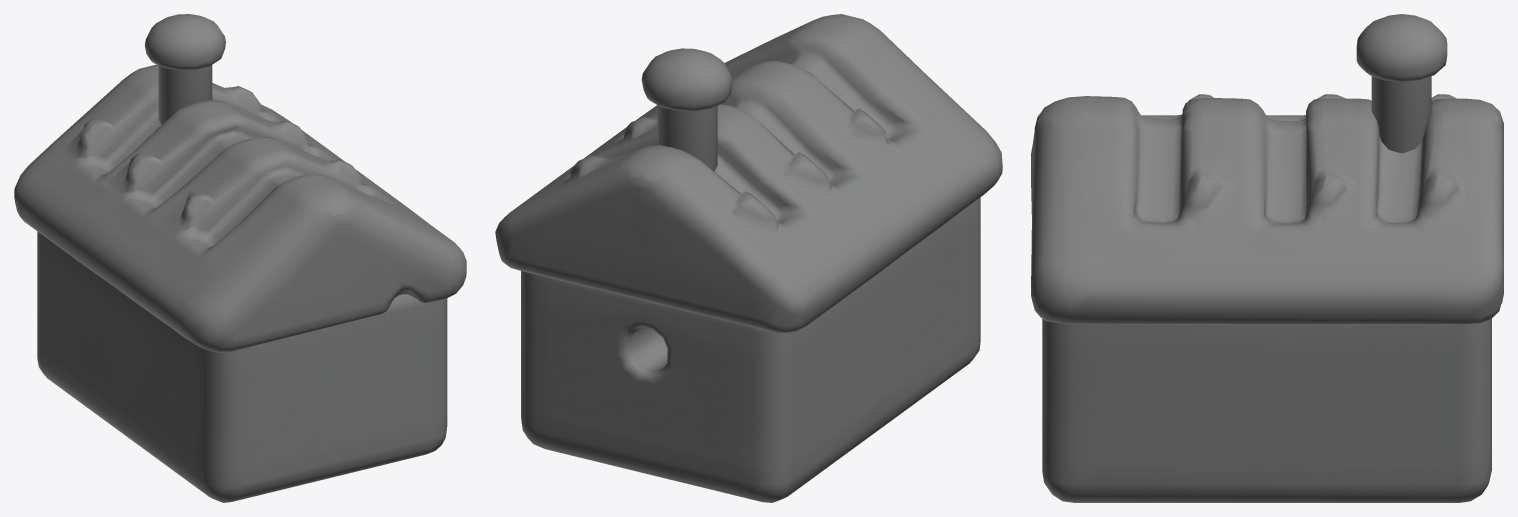
File: icon-factory.glb
The picture shows the model from 3 angles, left to right: view 1: azimuth 30°, elevation 25°; view 2: azimuth 150°, elevation 25°; view 3: azimuth 270°, elevation 25°; orthographic projection. The views are drawn at different scales.
Parts seen in each view (by area): view 1: tripo_node_kodyurd-model-40____________________; view 2: tripo_node_kodyurd-model-40____________________; view 3: tripo_node_kodyurd-model-40____________________.
Boxes of the visible parts, x1,y1,x2,y2 form: tripo_node_kodyurd-model-40____________________: (14, 14, 466, 502); tripo_node_kodyurd-model-40____________________: (495, 14, 1002, 502); tripo_node_kodyurd-model-40____________________: (1031, 14, 1503, 502).
Size of the model in its own units: 0.8066 by 0.9863 by 0.998.
Materials: 1 (1 with a texture image).
